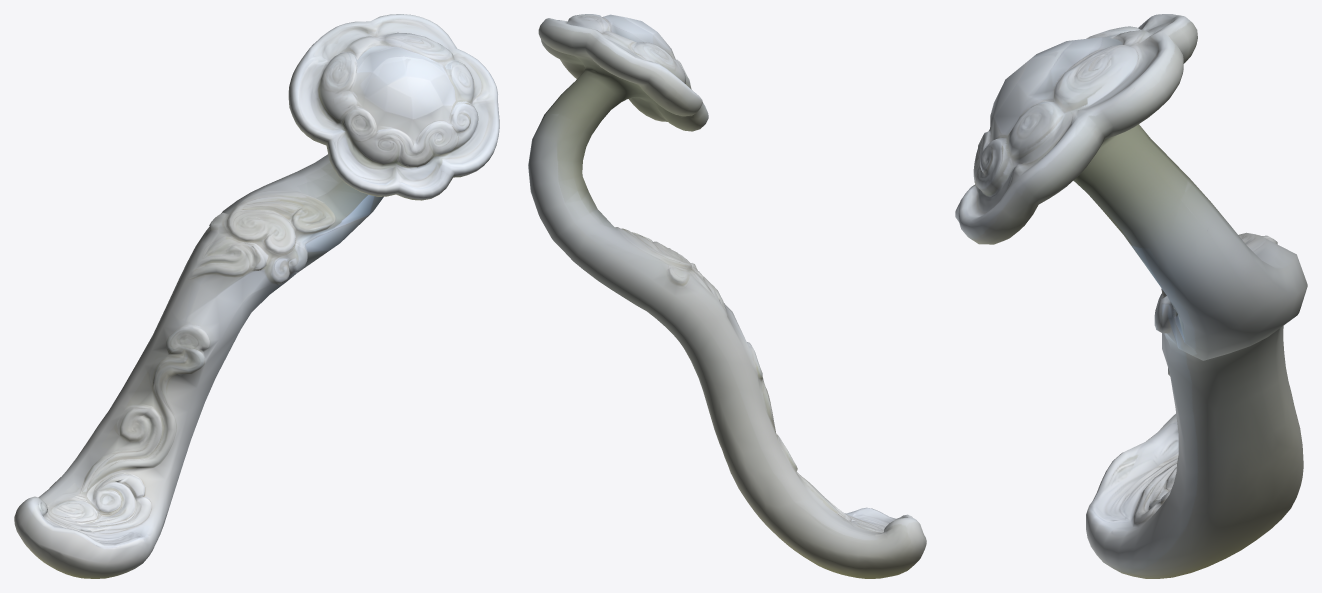
File: treasure_ruyi.glb
The picture shows the model from 3 angles, left to right: view 1: azimuth 30°, elevation 25°; view 2: azimuth 150°, elevation 25°; view 3: azimuth 270°, elevation 25°; orthographic projection. The views are drawn at different scales.
Parts seen in each view (by area): view 1: texture_pbr_20250901; view 2: texture_pbr_20250901; view 3: texture_pbr_20250901.
Boxes of the visible parts, bbox=[...] form: texture_pbr_20250901: bbox=[14, 14, 499, 578]; texture_pbr_20250901: bbox=[528, 14, 926, 578]; texture_pbr_20250901: bbox=[955, 14, 1307, 578].
Size of the model in its own units: 1.77 by 1.9 by 0.8221.
Materials: 1 (1 with a texture image).
